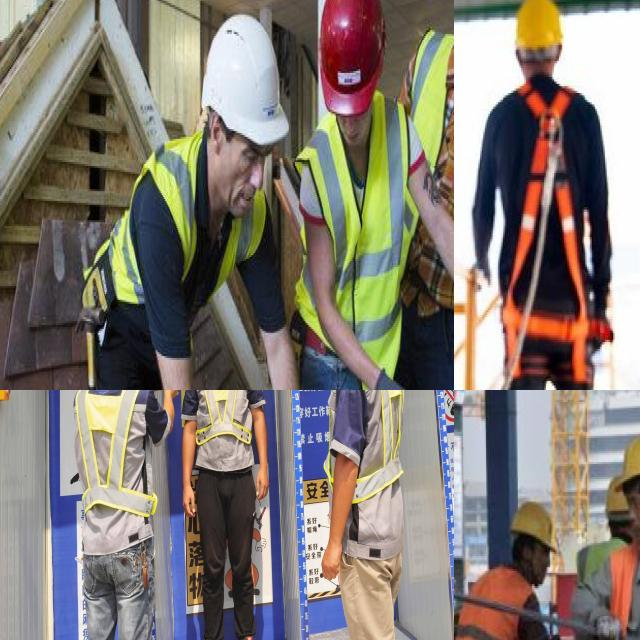Harness: (503, 84, 575, 356), (527, 154, 590, 382)
No_Ear-Protection: (207, 107, 225, 158)
face_nomask: (224, 125, 272, 218), (518, 541, 553, 584), (625, 494, 640, 544)
hand_glove: (374, 369, 424, 390), (596, 606, 625, 640)
hand_noglove: (320, 530, 349, 588), (254, 452, 272, 502), (178, 482, 200, 520), (165, 390, 185, 411)
head_helmet: (202, 11, 289, 150), (317, 0, 386, 111), (508, 502, 555, 548), (610, 426, 640, 486), (601, 470, 632, 512)
person: (100, 15, 303, 390), (299, 0, 420, 390), (317, 390, 406, 640), (72, 390, 157, 640), (182, 390, 266, 640), (408, 0, 454, 390), (454, 499, 559, 640), (580, 480, 640, 640)
vest: (309, 94, 418, 390), (106, 133, 263, 311), (408, 26, 454, 315), (73, 390, 156, 543), (331, 390, 406, 552), (454, 570, 538, 640), (193, 390, 262, 465)
